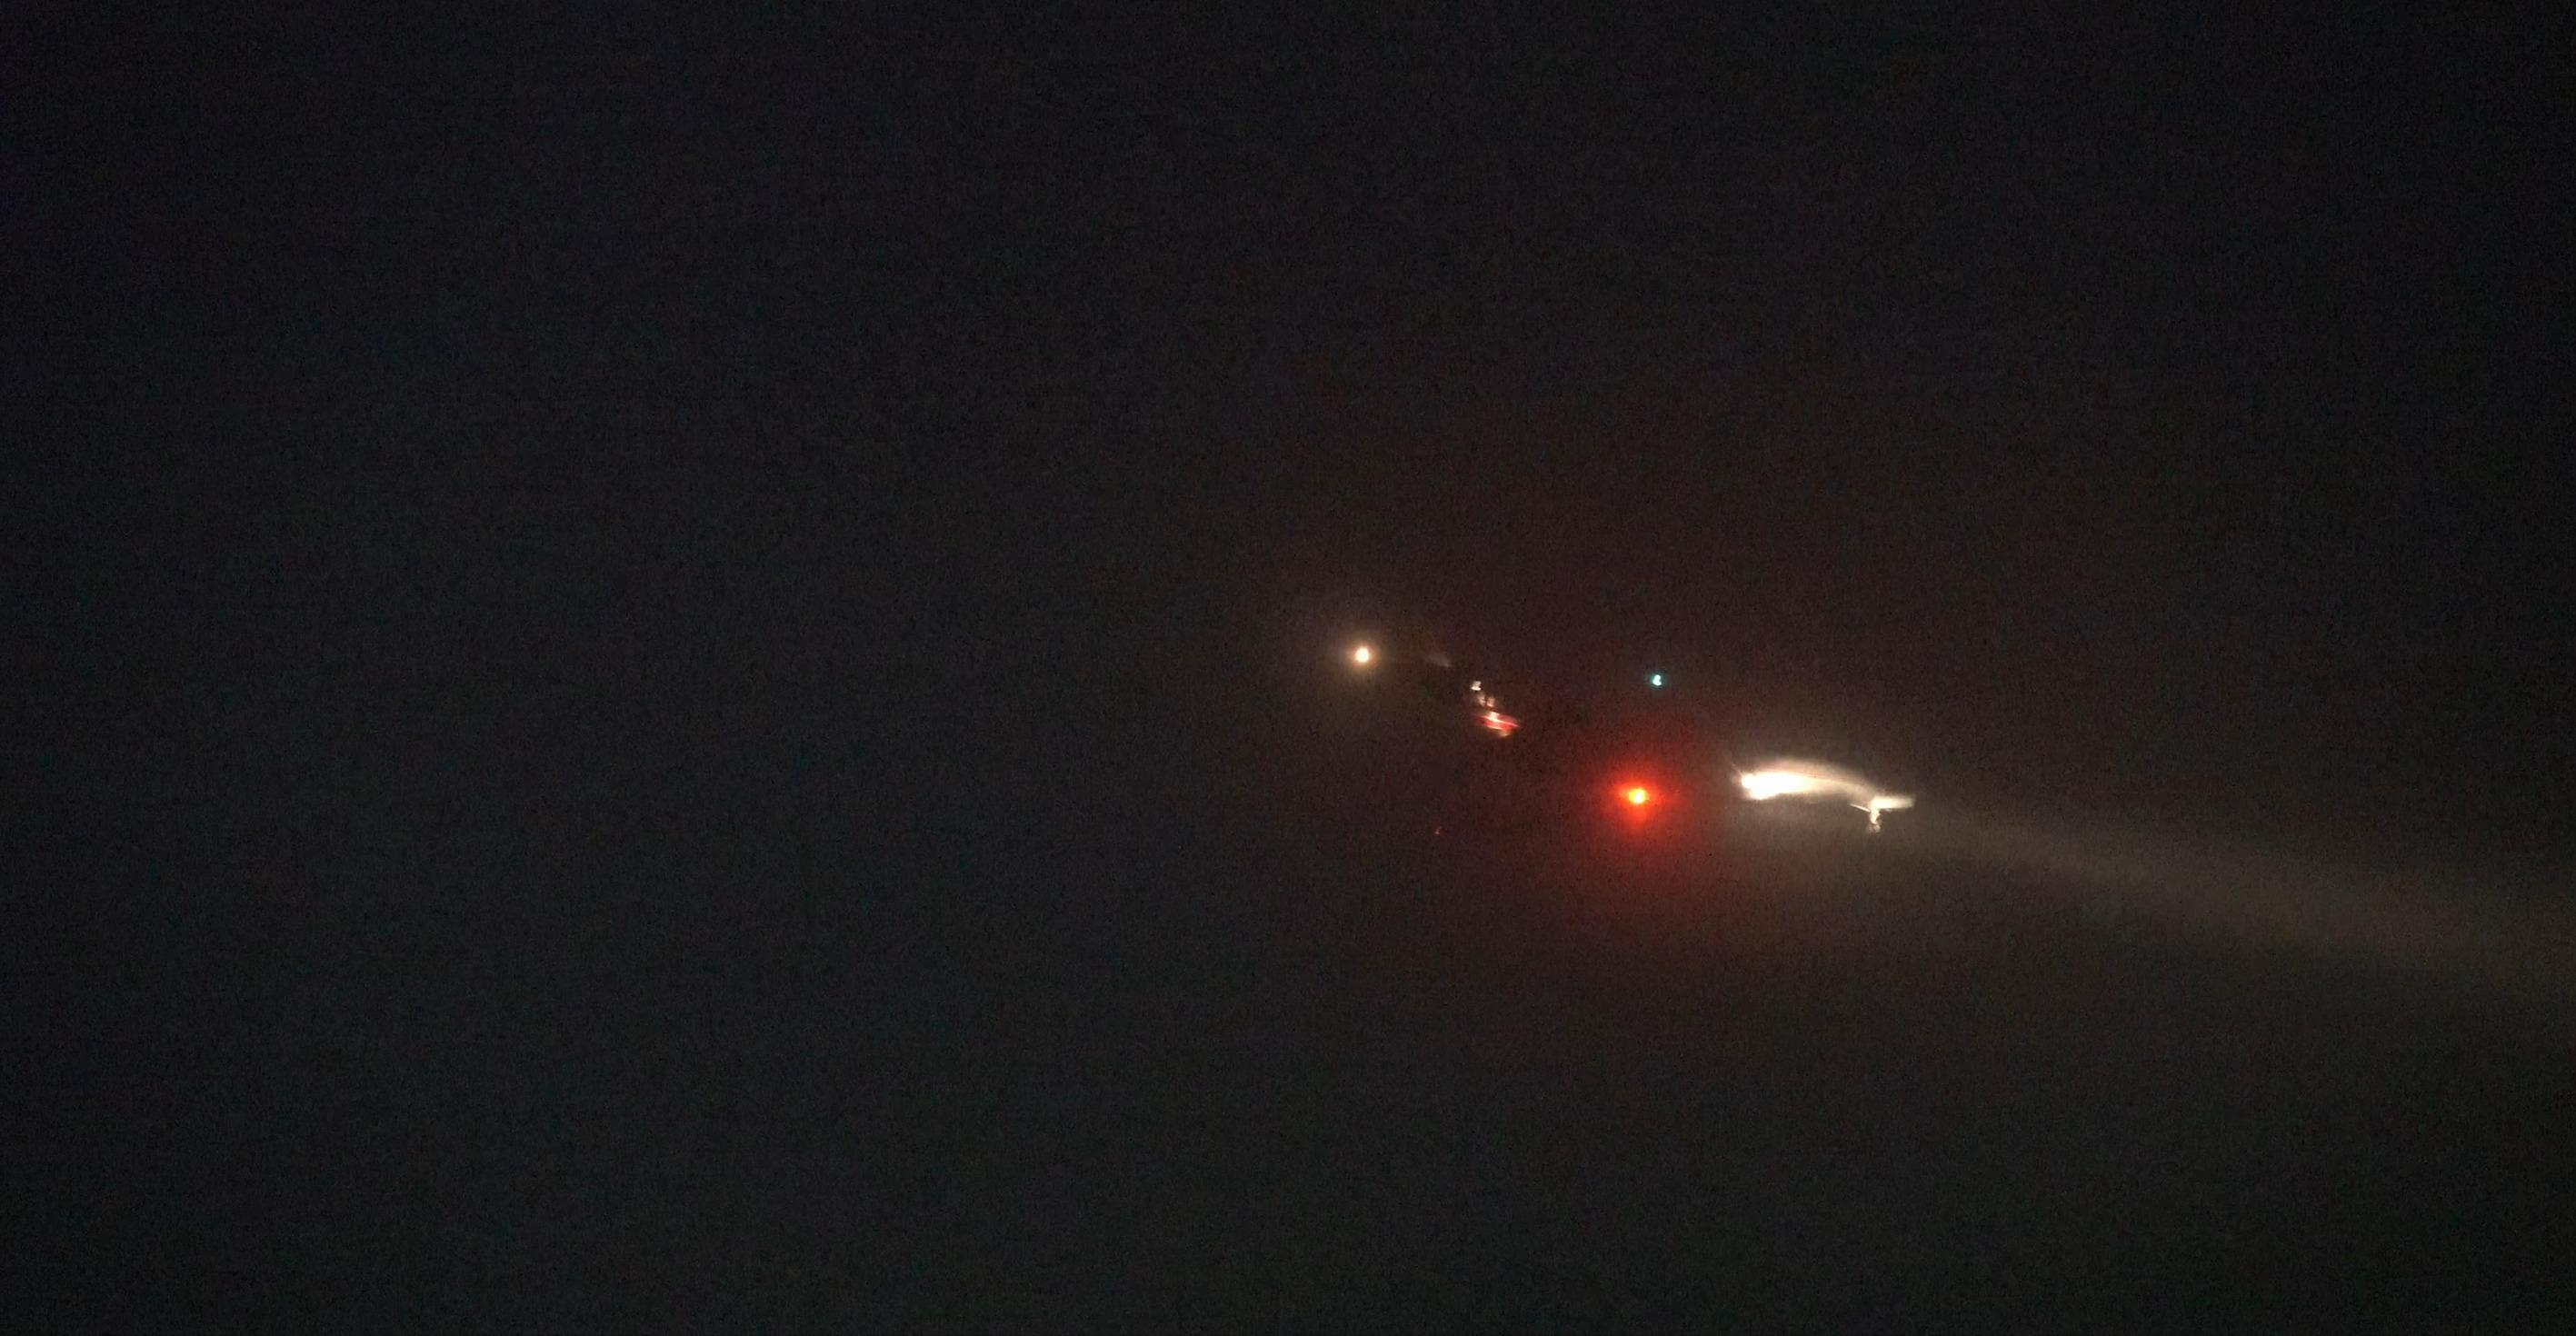Plane: (1276, 612, 1888, 876)
